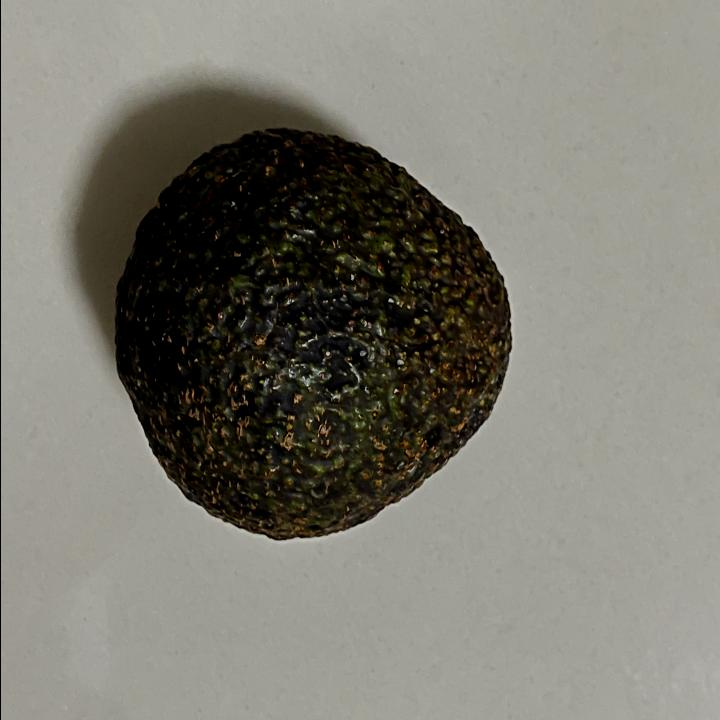Level1: (102, 112, 526, 558)
